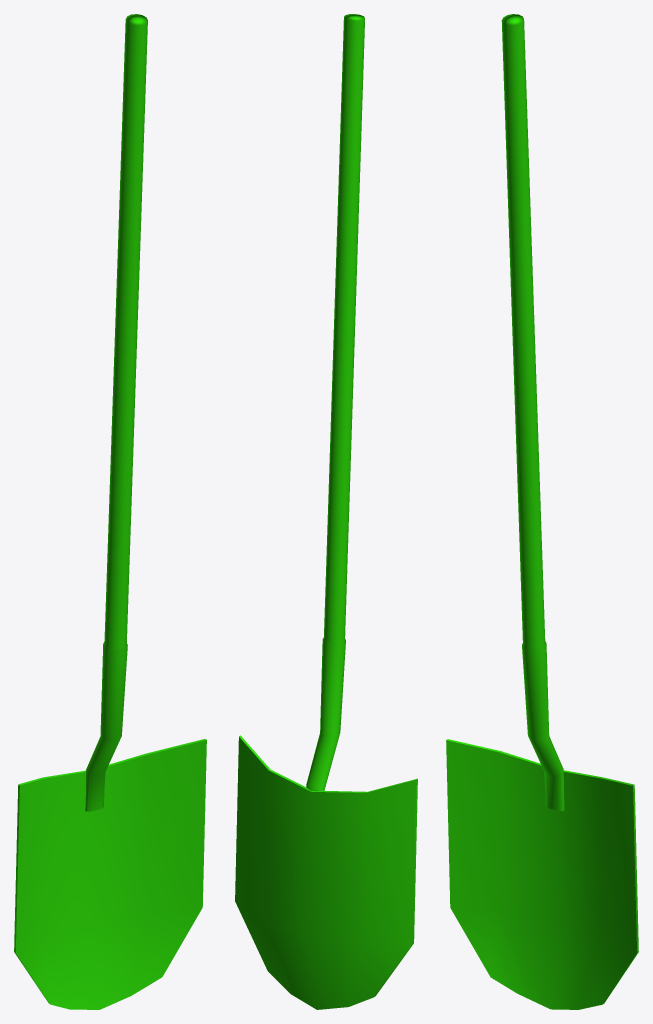
Rendered from Shovel_01_Lod0.fbx.
The picture shows the model from 3 angles, left to right: view 1: azimuth 30°, elevation 25°; view 2: azimuth 150°, elevation 25°; view 3: azimuth 330°, elevation 25°; orthographic projection. The views are drawn at different scales.
Parts seen in each view (by area): view 1: Shovel_01_Lod0; view 2: Shovel_01_Lod0; view 3: Shovel_01_Lod0.
Boxes of the visible parts, x1=… form: Shovel_01_Lod0: x1=14, y1=14, x2=206, y2=1009; Shovel_01_Lod0: x1=235, y1=14, x2=417, y2=1009; Shovel_01_Lod0: x1=446, y1=14, x2=638, y2=1009.
Bounding box in the file's own units: 37.17 × 194 × 18.12.
